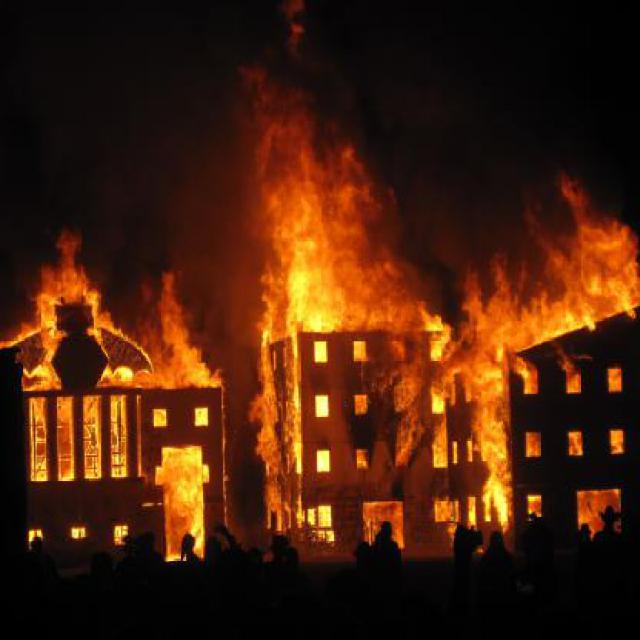fire: (243, 115, 640, 490)
